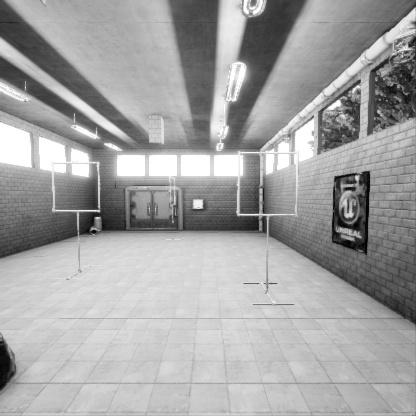gate: (239, 202, 305, 267), (56, 206, 106, 255), (169, 211, 174, 241)
